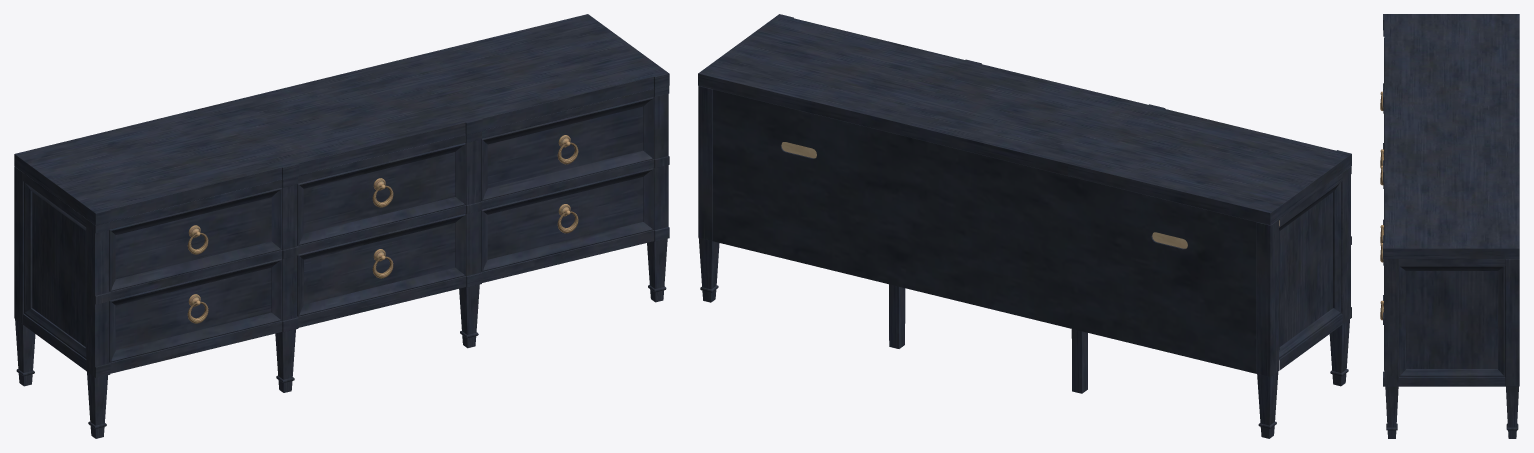
File: abo-B07B7GYMQ9.glb
3 renders of one model, left to right at view 1: azimuth 30°, elevation 25°; view 2: azimuth 150°, elevation 25°; view 3: azimuth 270°, elevation 25°, orthographic. The views are drawn at different scales.
Bounding box in the file's own units: 1.88 × 0.715 × 0.471.
1 material, 1 textured.
